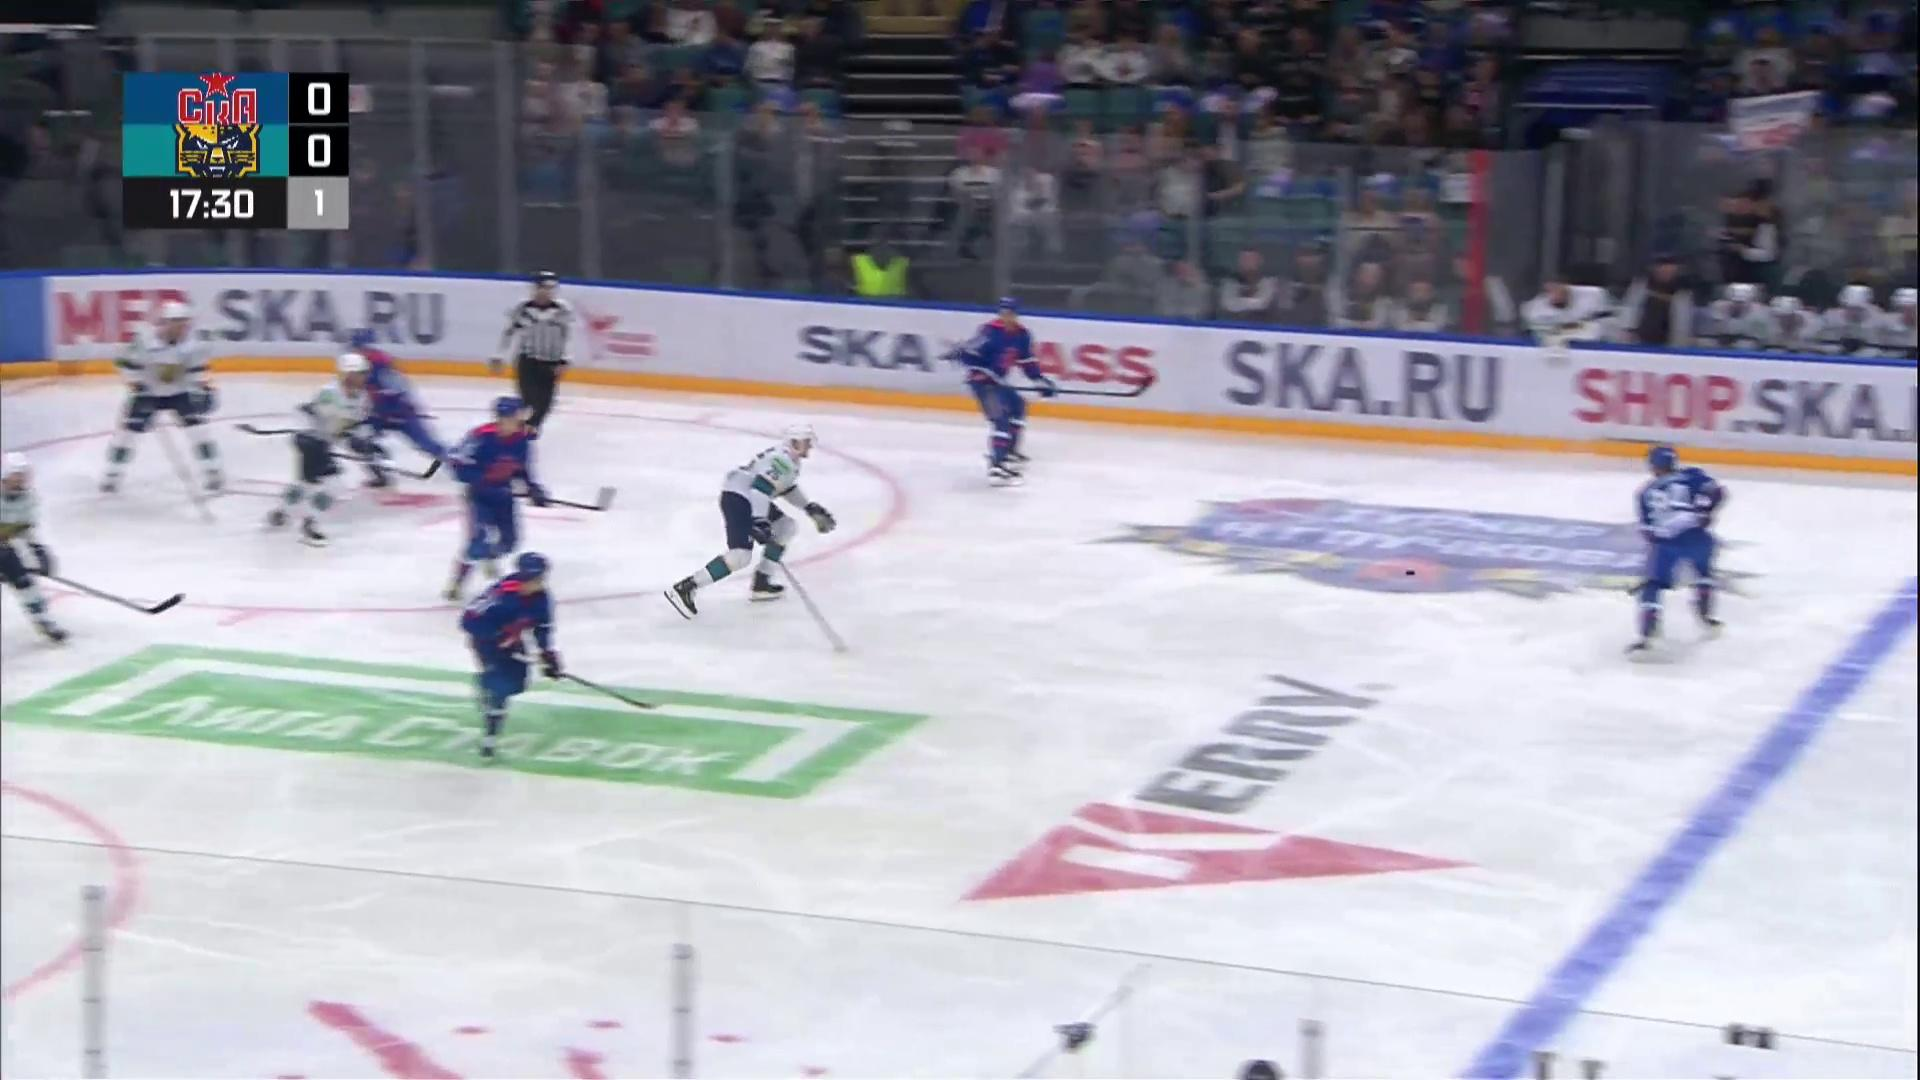ball: (1406, 570, 1416, 576)
